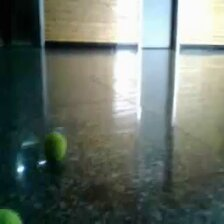tennis: (43, 132, 66, 163)
